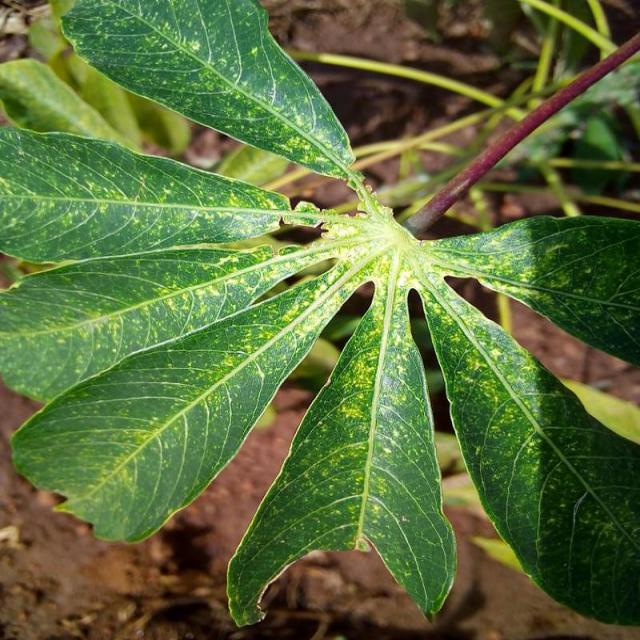cassava leaf: (2, 1, 640, 628), (226, 254, 458, 628), (61, 0, 358, 181)
